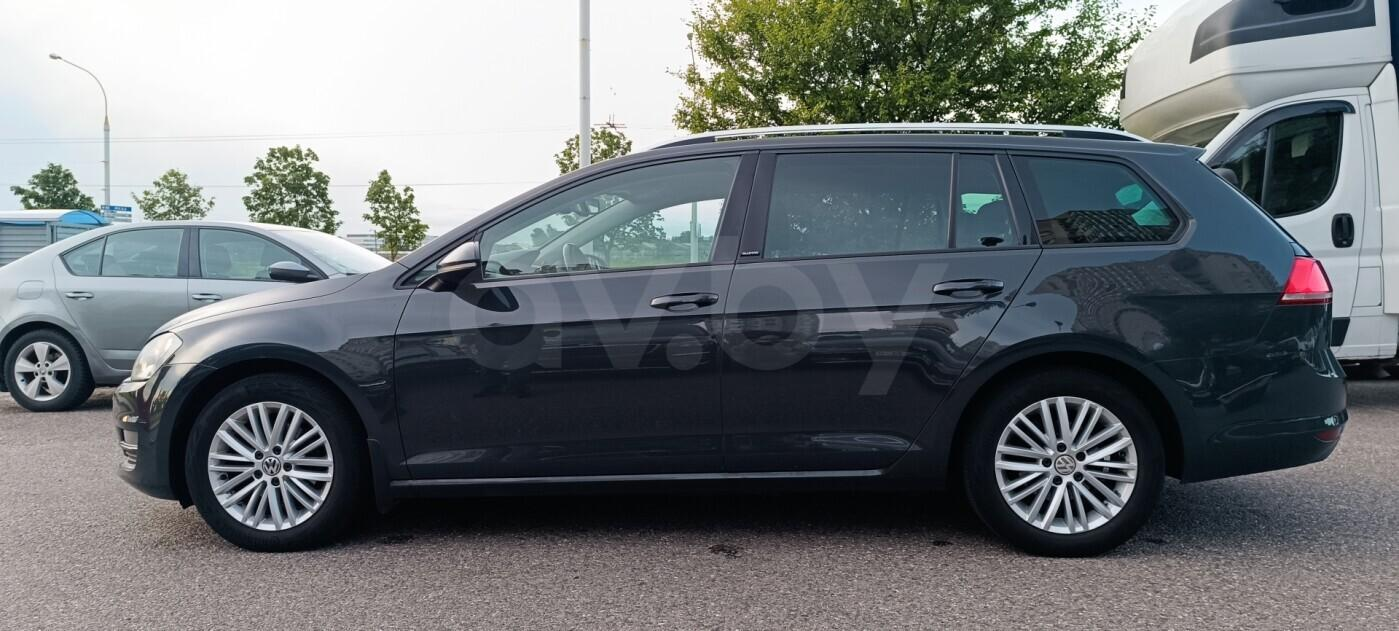Golf_2012-2017: (115, 119, 1351, 547)
